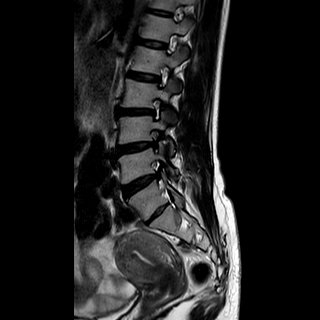RFS0: (150, 61, 174, 93), (145, 92, 167, 123)
RFS3: (143, 127, 169, 156)
